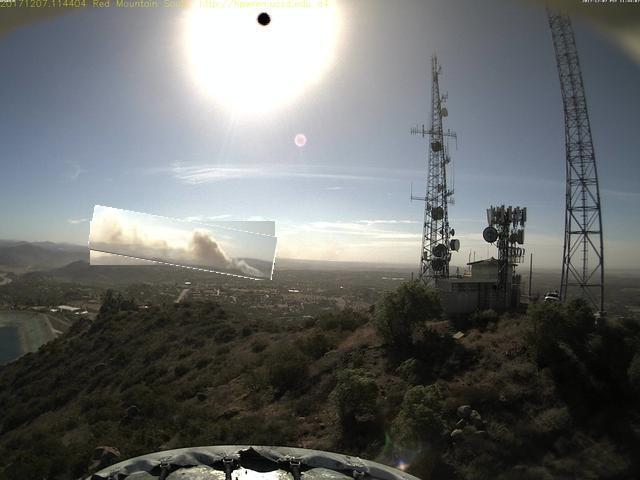smoke: (90, 214, 278, 275)
